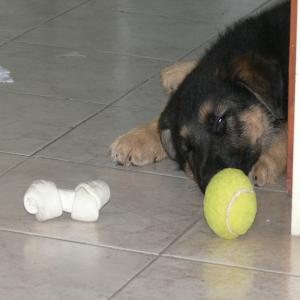TennisBall: (204, 169, 258, 241)
